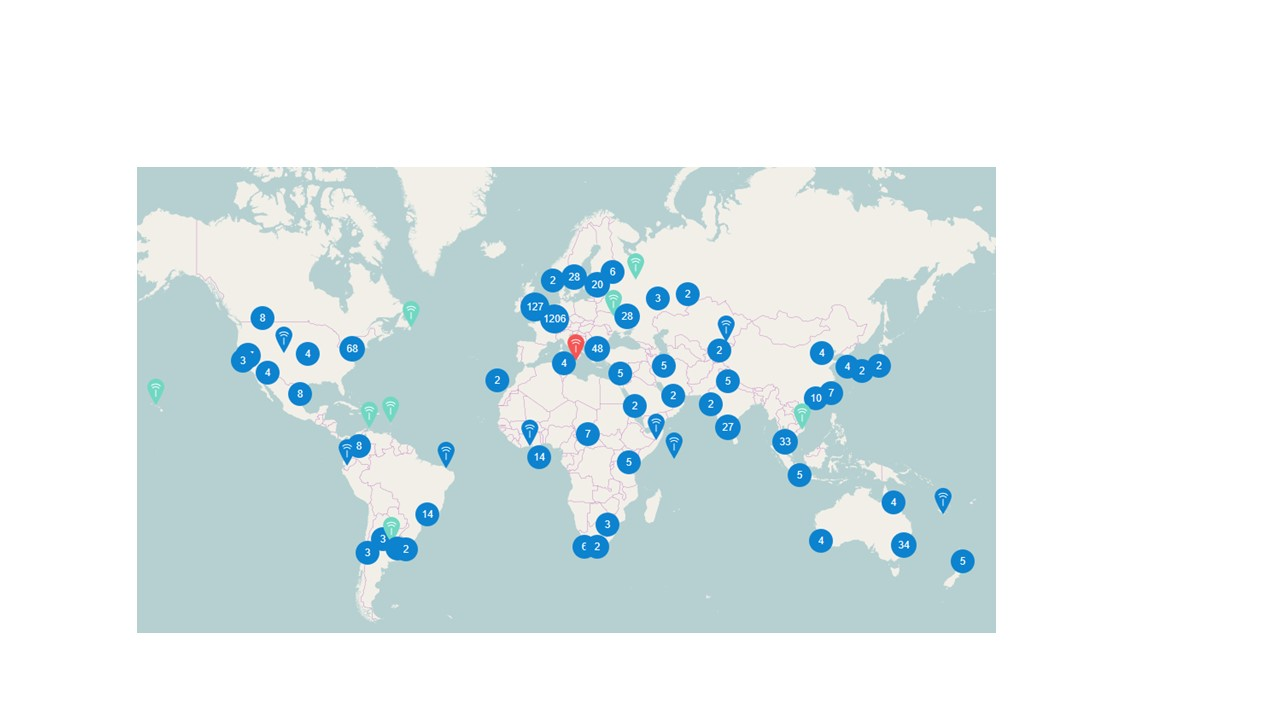

The page's visual inventory and layout, read from the dashboard file:
{"tool":"powerbi","page":{"name":"Page 1","canvas":[1280,720],"ordinal":0},"visuals":[{"type":"map","fields":{"X":["TelemetryLatestView.Longitude"],"Y":["TelemetryLatestView.Latitude"],"Series":["TelemetryLatestView.Description"],"Size":["Sum(TelemetryLatestView.level)"]},"box":[0,0,1278.7,718.7],"z":1}]}

Visuals, with their boxes in screenshot pixels (x1, y1, x2, y2), scaled from the page's 1280x720 canvas onto the 1280x720 screenshot:
map - TelemetryLatestView.Longitude x TelemetryLatestView.Latitude: 0/0/1279/719
